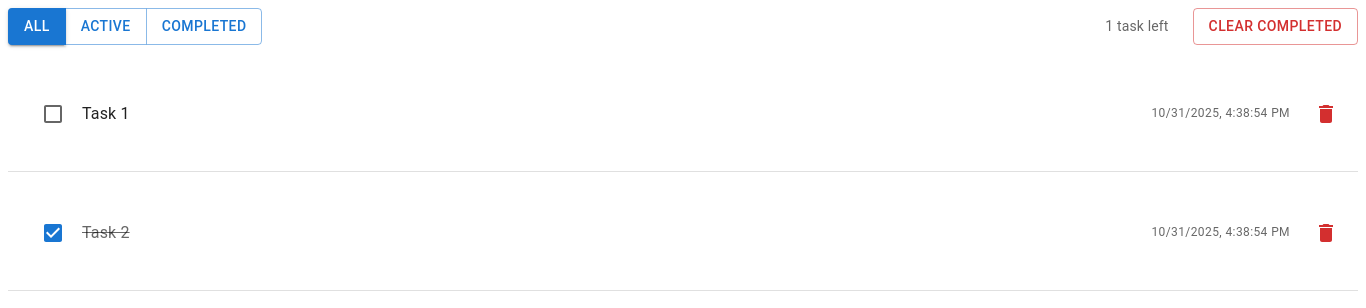
it: TodoList Component › filters active tasks
This screenshot has width=1366, height=308.
Click the button "Active": (106, 26) [65,8,147,44]
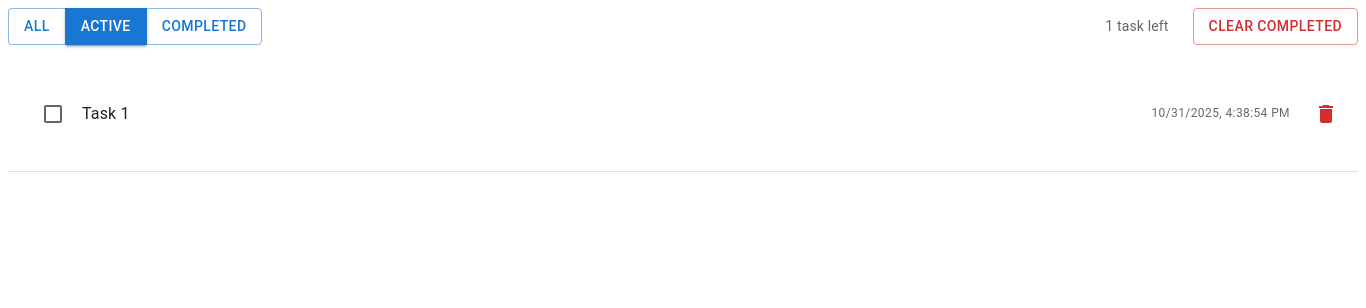
Expected: the text "Task 1" is shown, [82,104,130,122]
Expected: the text "Task 2" is gone
